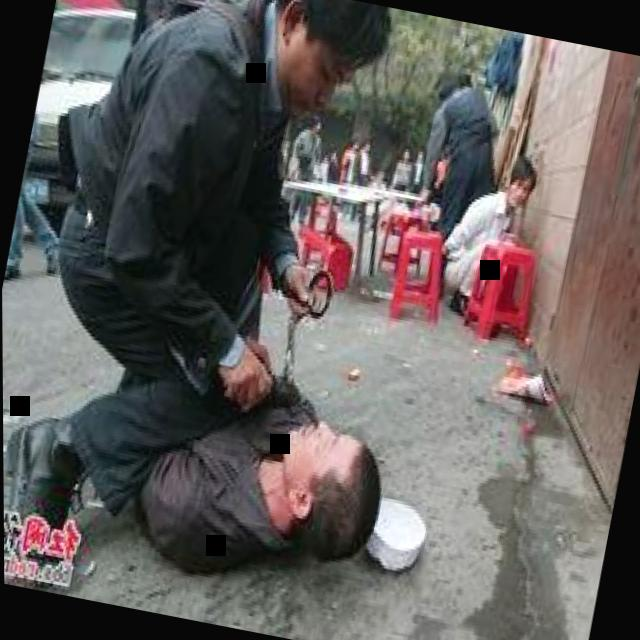Fall-Detected: (2, 297, 423, 619)
